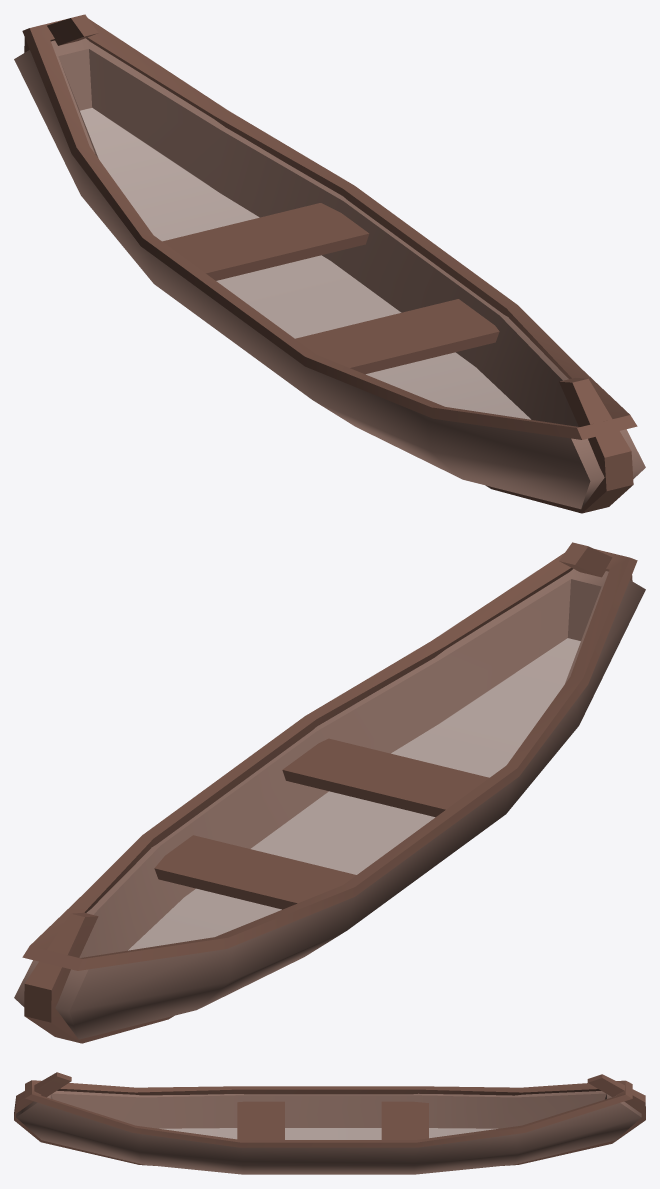
Rendered from prop_015.fbx.
3 views of the same model, one above another, from view 1: azimuth 30°, elevation 25°; view 2: azimuth 150°, elevation 25°; view 3: azimuth 270°, elevation 25° (orthographic). The views are drawn at different scales.
Visible parts, largest first — view 1: prop.015; view 2: prop.015; view 3: prop.015.
Part boxes in pixels (box(x1,y1,x2,y2)): prop.015: box(14, 14, 645, 513); prop.015: box(14, 542, 645, 1043); prop.015: box(14, 1072, 645, 1174).
Size of the model in its own units: 294 by 226 by 1385.
Materials: 1 (1 with a texture image).
